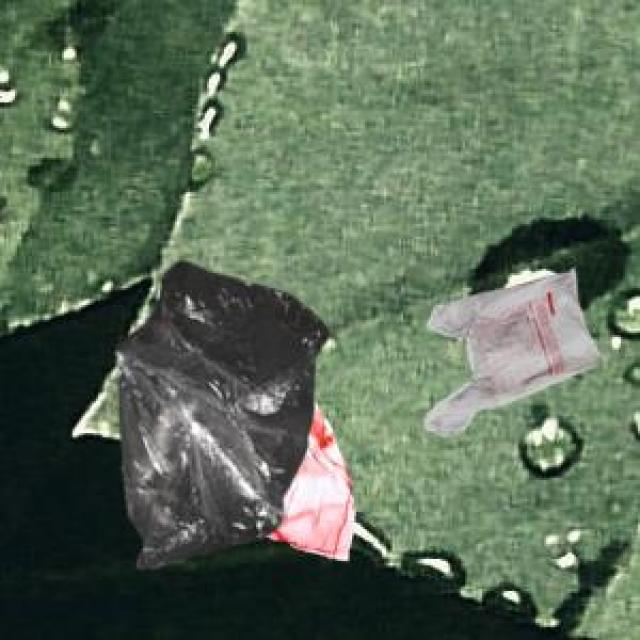plastic: (91, 247, 620, 589)
